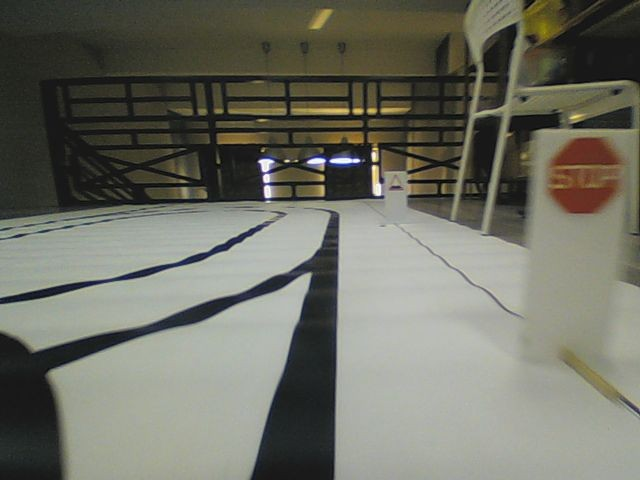Stop: (547, 132, 623, 216)
